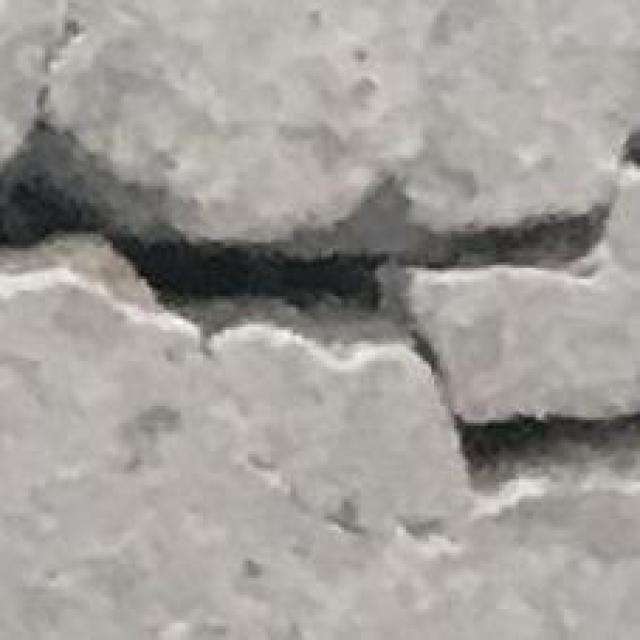Crack: (3, 3, 640, 510)
